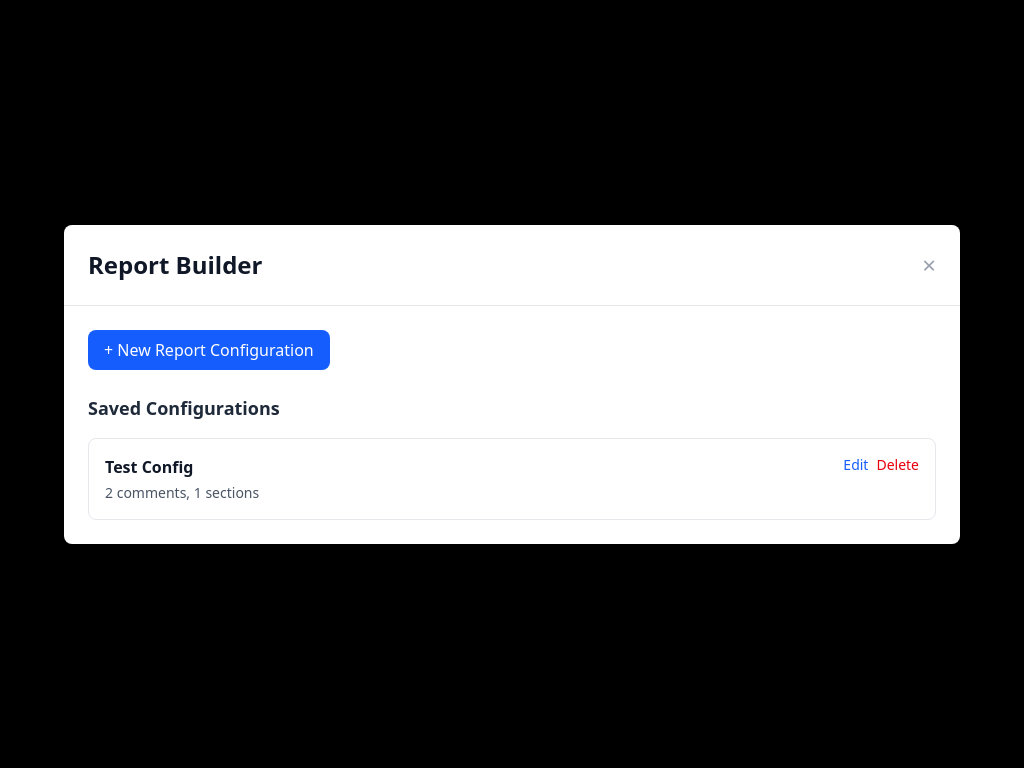
Test: ReportBuilder › should allow adding sections
The width and height of the screenshot is (1024, 768).
Click the button "+ New Report Configuration": (209,350) [88,330,330,370]
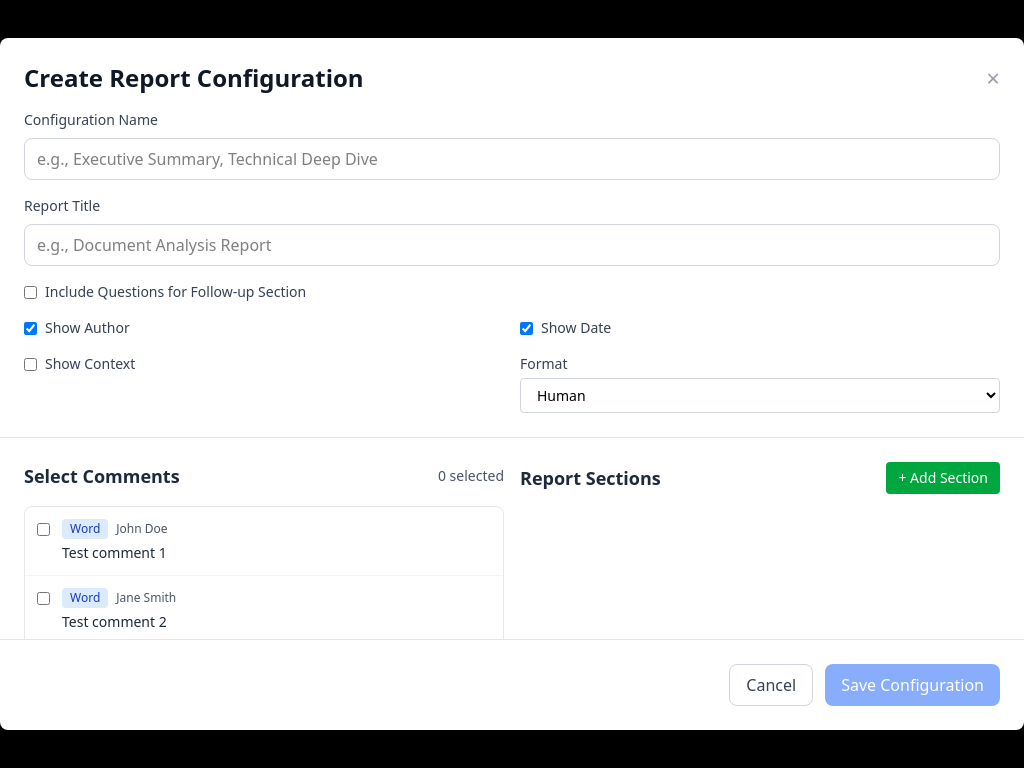
Click the button "+ Add Section": (943,478) [886,462,1000,494]
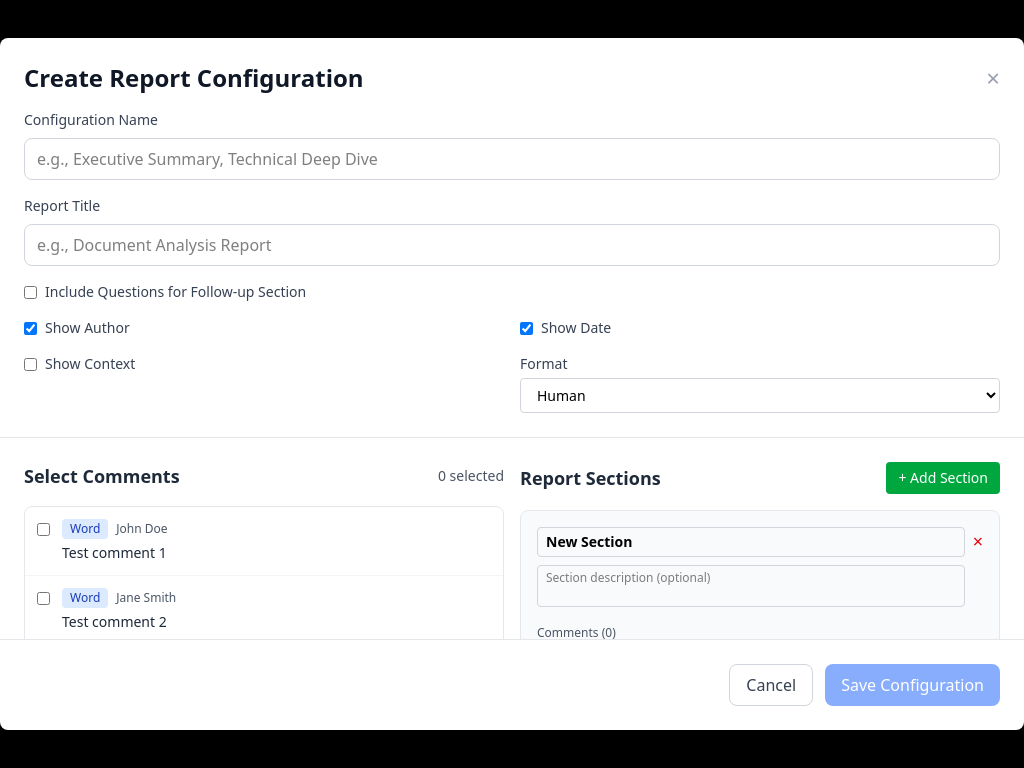
Check: the field with placeholder "Section title" is shown, box [537,527,965,557]
